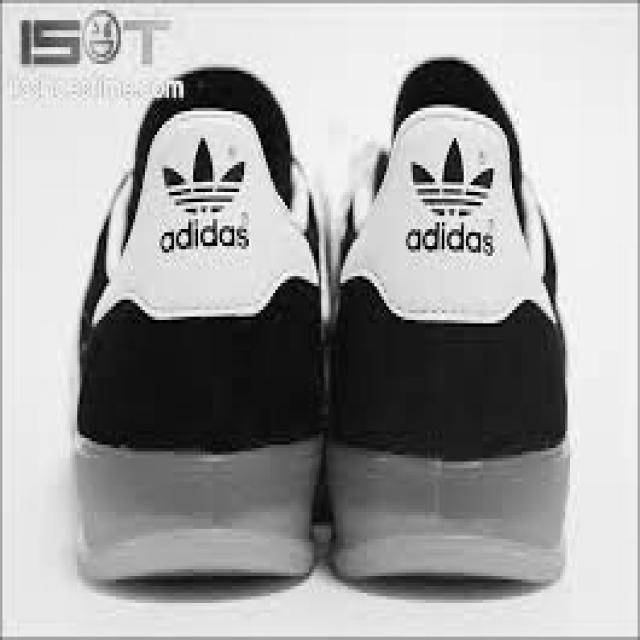Adidas: (145, 135, 254, 222), (406, 135, 500, 219)
